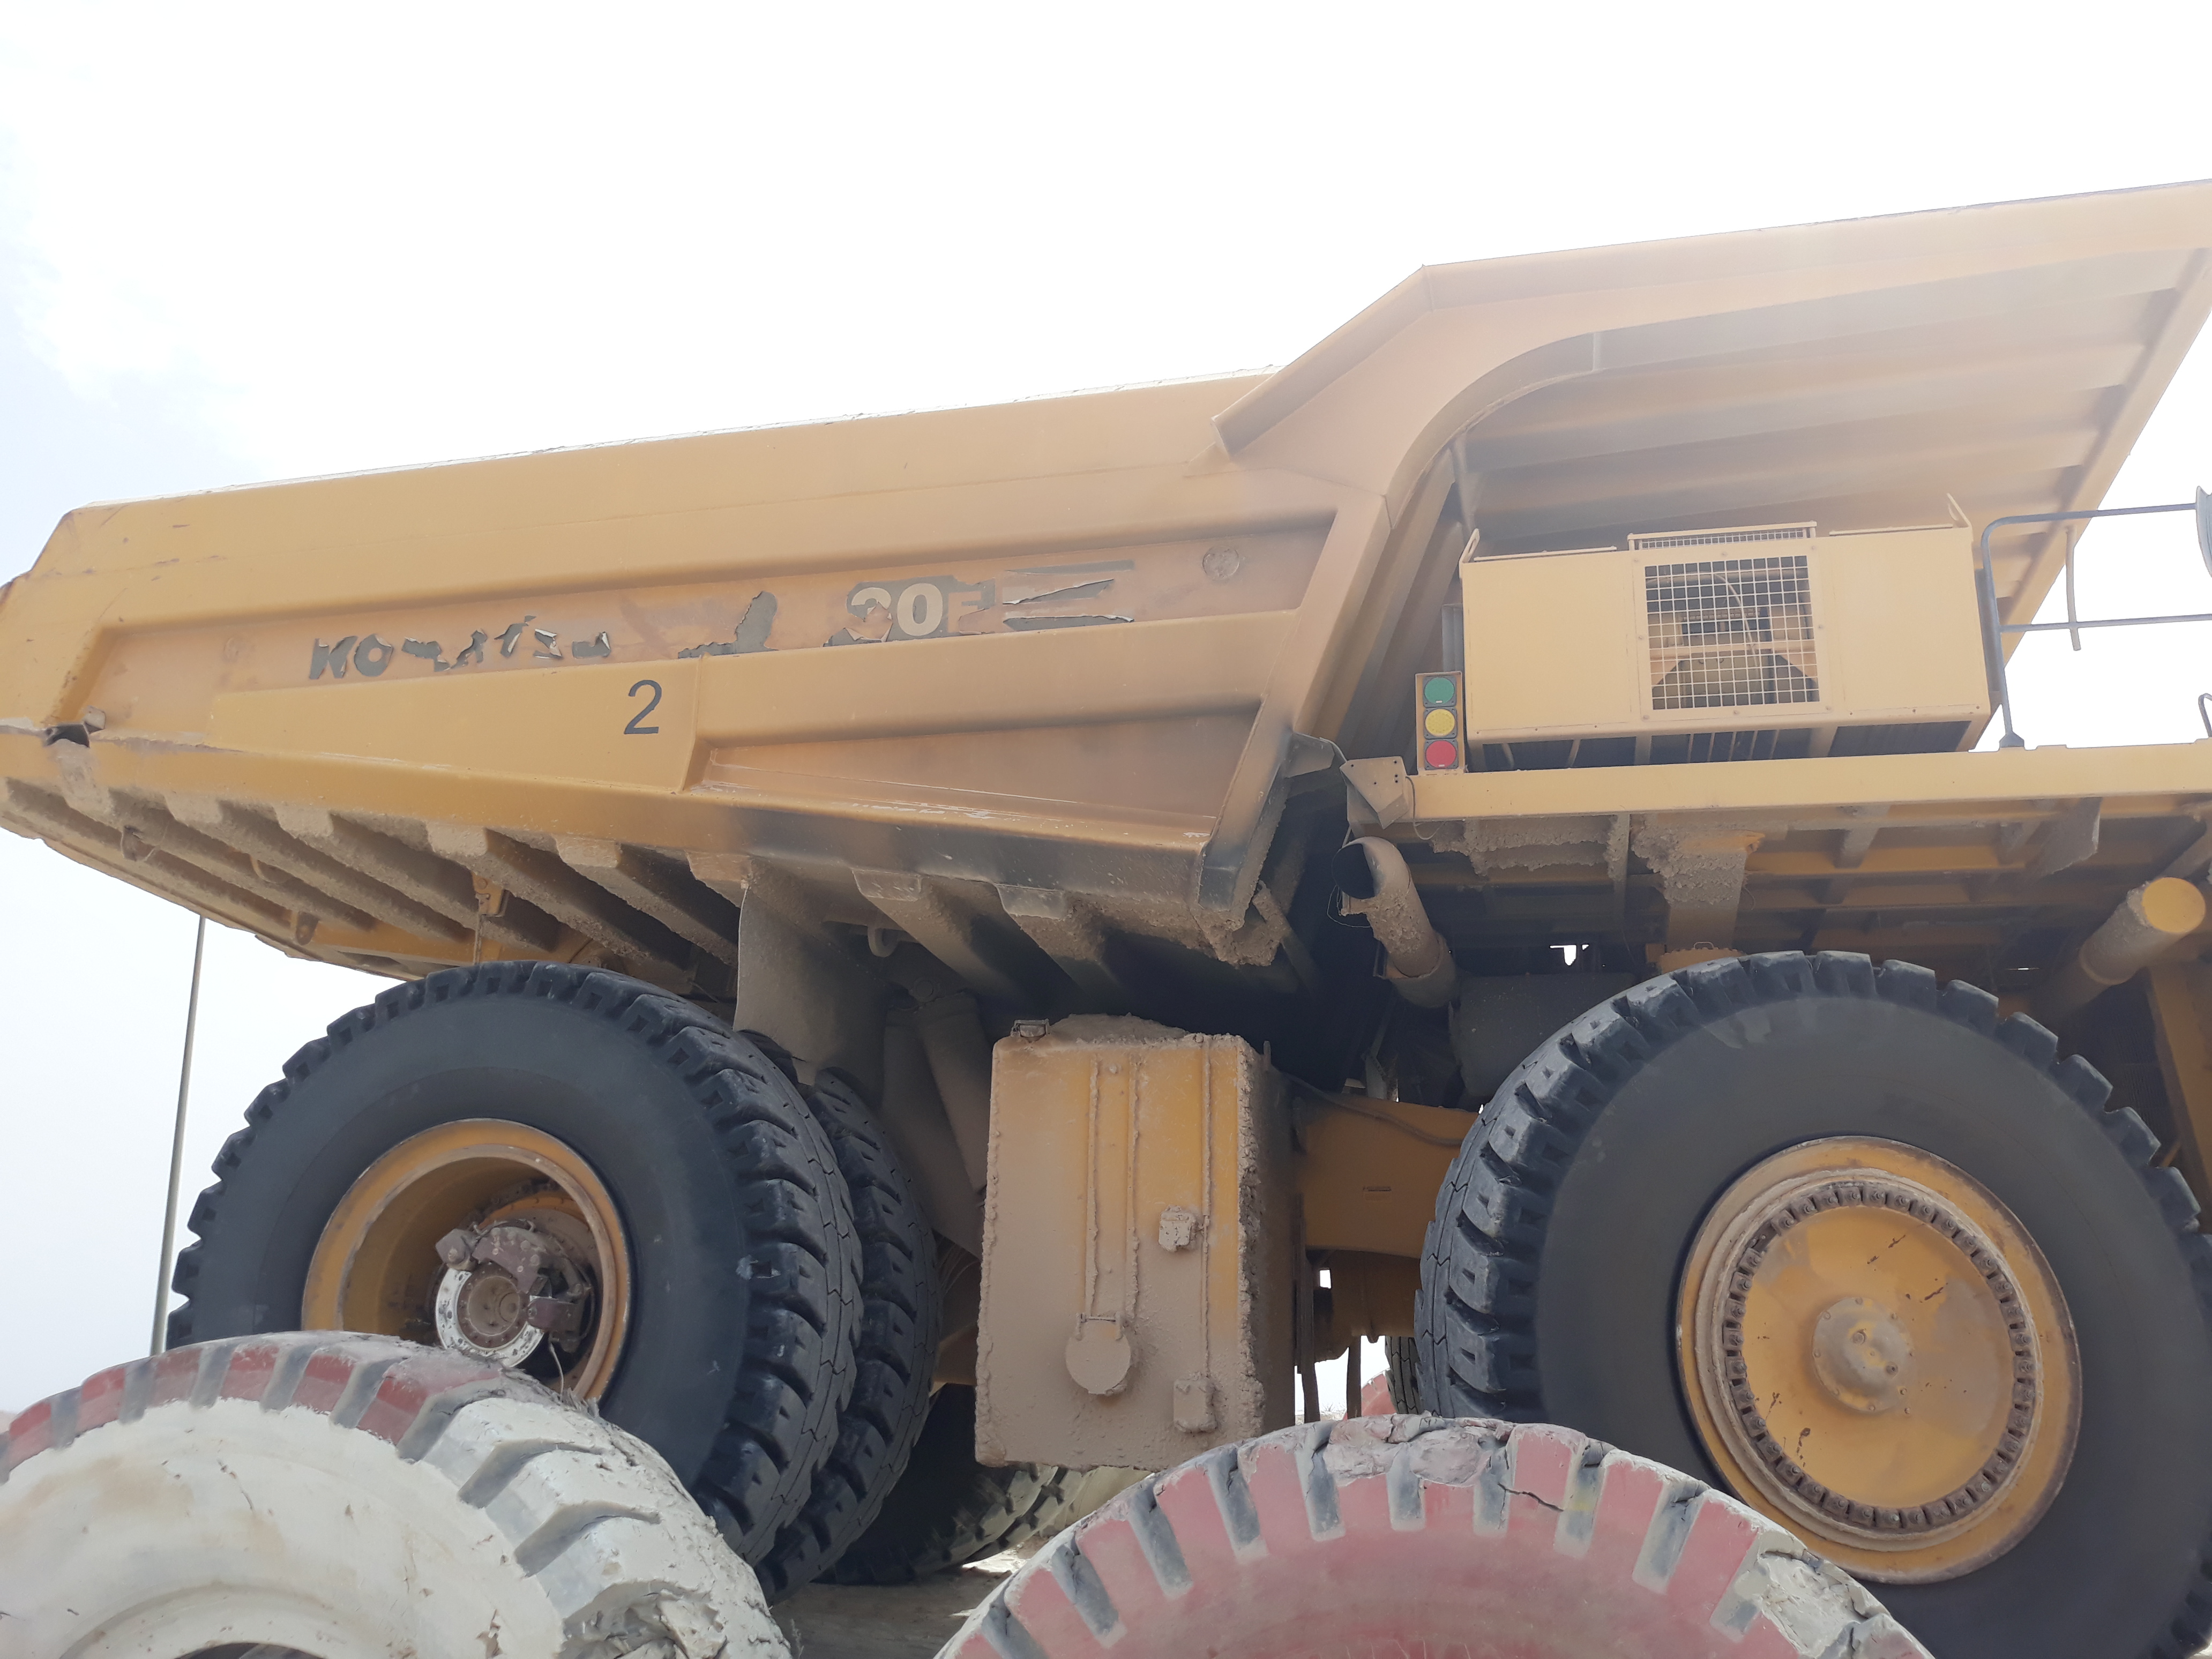camion: (12, 167, 2210, 1659)
